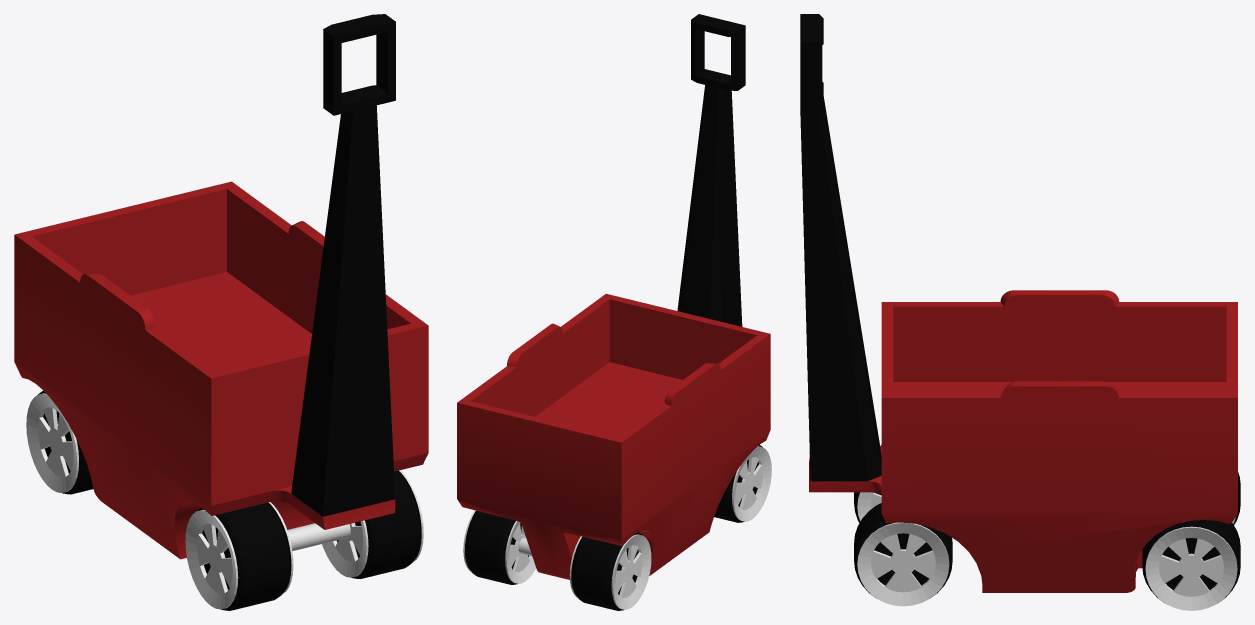
File: carrito.fbx
3 views of the same model, side by side, from view 1: azimuth 30°, elevation 25°; view 2: azimuth 150°, elevation 25°; view 3: azimuth 270°, elevation 25° (orthographic). The views are drawn at different scales.
Parts seen in each view (by area): view 1: Cube; view 2: Cube; view 3: Cube.
Boxes of the visible parts, left/top/right/bottom form: Cube: left=14, top=14, right=428, bottom=610; Cube: left=457, top=14, right=771, bottom=610; Cube: left=800, top=14, right=1240, bottom=610.
Bounding box in the file's own units: 200 × 526 × 388.
